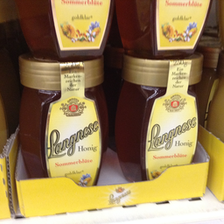honey: (13, 57, 111, 191), (114, 54, 207, 181)
